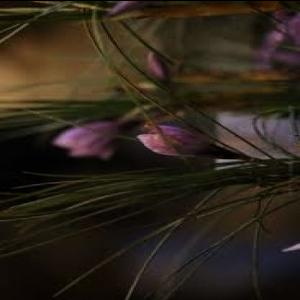Saffron: (138, 123, 237, 160), (54, 118, 118, 156)
